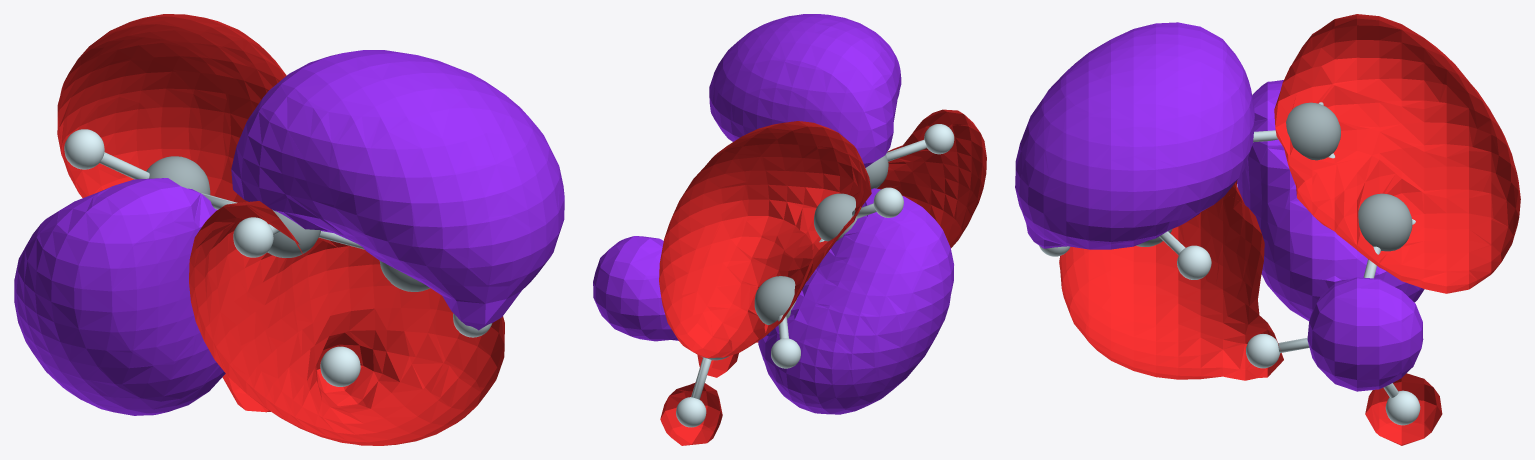
3 renders of one model, left to right at view 1: azimuth 30°, elevation 25°; view 2: azimuth 150°, elevation 25°; view 3: azimuth 270°, elevation 25°, orthographic. The views are drawn at different scales.
Parts seen in each view (by area): view 1: Renderer Node; view 2: Renderer Node; view 3: Renderer Node.
Boxes of the visible parts, bbox=[...] form: Renderer Node: bbox=[14, 14, 564, 445]; Renderer Node: bbox=[593, 14, 986, 445]; Renderer Node: bbox=[1015, 14, 1520, 445].
Size of the model in its own units: 4.85 by 5.02 by 5.84.
